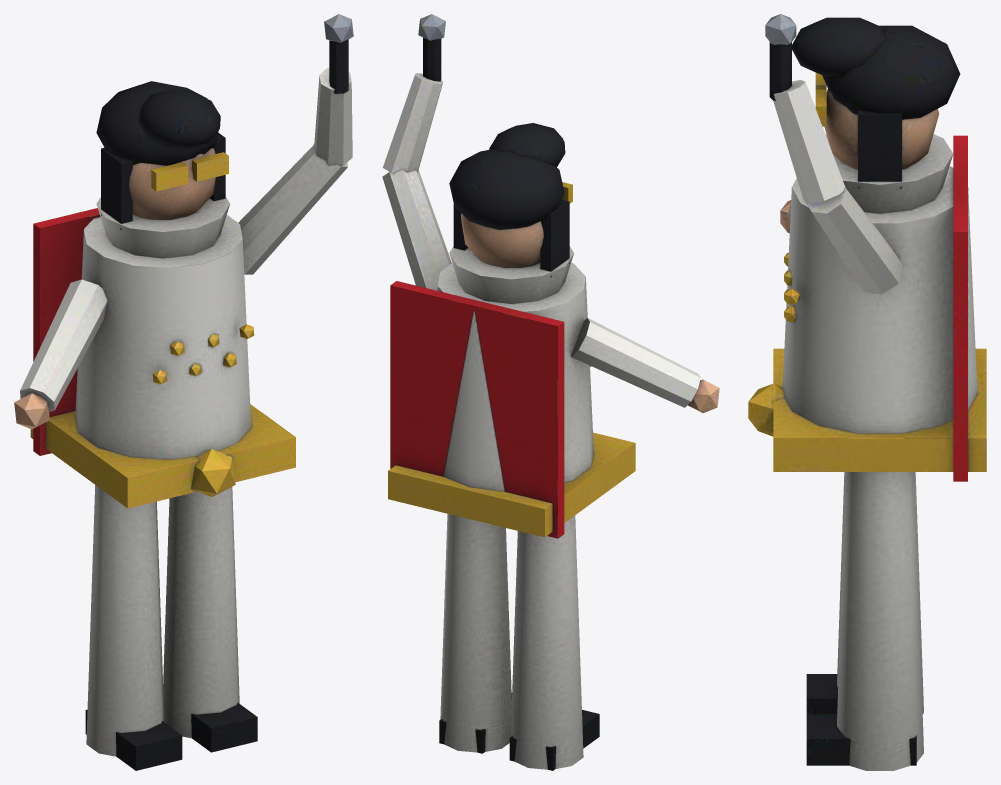
Rendered from elvis.glb.
3 views of the same model, side by side, from view 1: azimuth 30°, elevation 25°; view 2: azimuth 150°, elevation 25°; view 3: azimuth 270°, elevation 25° (orthographic). The views are drawn at different scales.
Visible parts, largest first — view 1: elvis; view 2: elvis; view 3: elvis.
Part boxes in pixels (bbox=[...]): elvis: bbox=[14, 14, 353, 770]; elvis: bbox=[382, 14, 719, 770]; elvis: bbox=[748, 14, 986, 770].
Bounding box in the file's own units: 1.19 × 2.37 × 0.6481.
Materials: 1 (1 with a texture image).
